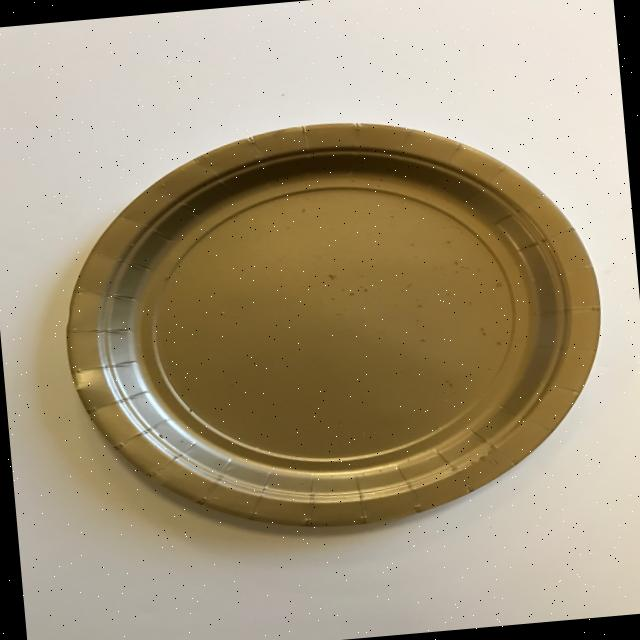paper: (48, 99, 619, 549)
